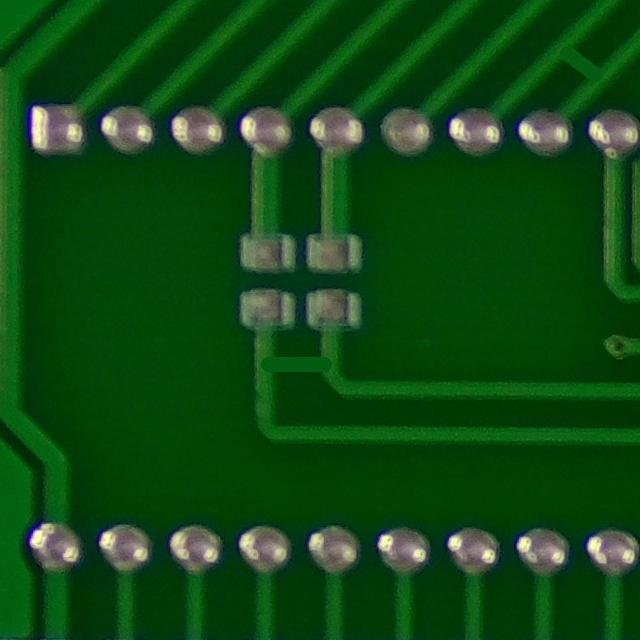short: (226, 334, 376, 396), (534, 34, 616, 96)
